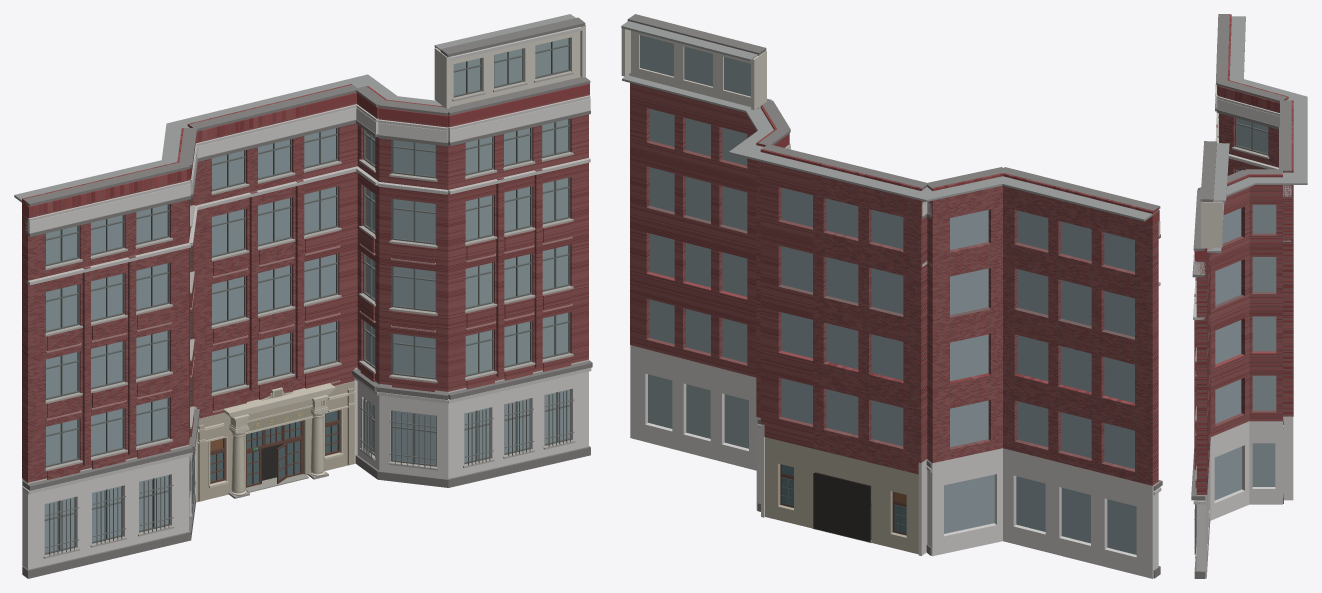
Rendered from huangpu-huqiu-apartments-east-front-raw.glb.
3 renders of one model, left to right at view 1: azimuth 30°, elevation 25°; view 2: azimuth 150°, elevation 25°; view 3: azimuth 270°, elevation 25°, orthographic. The views are drawn at different scales.
Visible parts, largest first — view 1: 虎丘公寓虎丘路东立面; view 2: 虎丘公寓虎丘路东立面; view 3: 虎丘公寓虎丘路东立面.
Part boxes in pixels (box(x1,y1,x2,y2)): 虎丘公寓虎丘路东立面: box(14, 14, 592, 578); 虎丘公寓虎丘路东立面: box(621, 14, 1162, 578); 虎丘公寓虎丘路东立面: box(1191, 14, 1307, 578).
Bounding box in the file's own units: 28.39 × 21.27 × 5.94.
23 materials, 1 textured.
